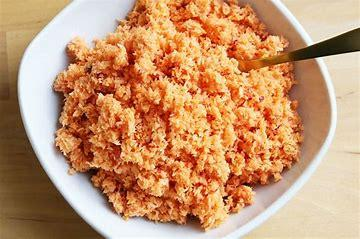Pol Sambol: (43, 17, 327, 207)
